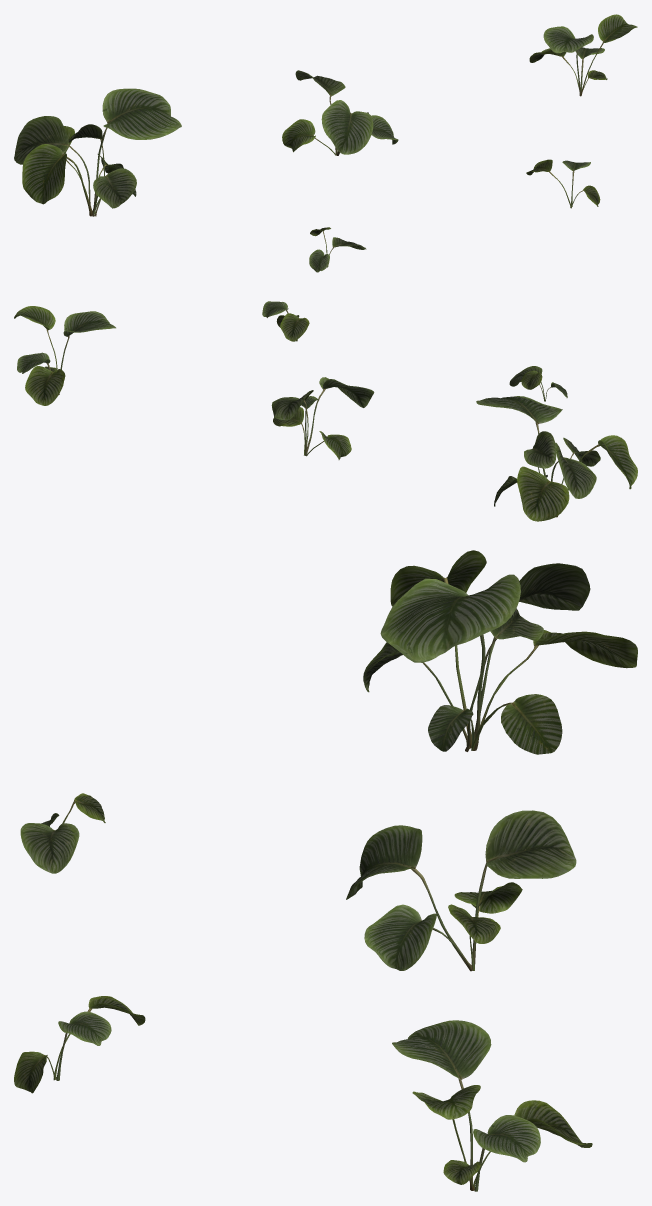
Rendered from calathea_orbifolia_01.glb.
The picture shows the model from 3 angles, top to bottom: view 1: azimuth 30°, elevation 25°; view 2: azimuth 150°, elevation 25°; view 3: azimuth 270°, elevation 25°; orthographic projection. The views are drawn at different scales.
Visible parts, largest first — view 1: calathea_orbifolia_01_a, calathea_orbifolia_01_b, calathea_orbifolia_01_c, calathea_orbifolia_01_e, calathea_orbifolia_01_d; view 2: calathea_orbifolia_01_a, calathea_orbifolia_01_c, calathea_orbifolia_01_b, calathea_orbifolia_01_e, calathea_orbifolia_01_d; view 3: calathea_orbifolia_01_a, calathea_orbifolia_01_b, calathea_orbifolia_01_c, calathea_orbifolia_01_e, calathea_orbifolia_01_d.
Boxes of the visible parts, box(x1,y1,x2,y2) form: calathea_orbifolia_01_a: box(14, 88, 181, 216); calathea_orbifolia_01_b: box(282, 70, 398, 155); calathea_orbifolia_01_c: box(529, 14, 637, 96); calathea_orbifolia_01_e: box(526, 159, 600, 208); calathea_orbifolia_01_d: box(309, 227, 366, 272); calathea_orbifolia_01_a: box(476, 396, 637, 521); calathea_orbifolia_01_c: box(14, 306, 115, 405); calathea_orbifolia_01_b: box(271, 377, 374, 459); calathea_orbifolia_01_e: box(262, 301, 309, 341); calathea_orbifolia_01_d: box(509, 366, 567, 401); calathea_orbifolia_01_a: box(363, 550, 637, 754); calathea_orbifolia_01_b: box(346, 810, 576, 971); calathea_orbifolia_01_c: box(392, 1020, 592, 1191); calathea_orbifolia_01_e: box(14, 996, 145, 1093); calathea_orbifolia_01_d: box(20, 793, 105, 873).
Bounding box in the file's own units: 2.49 × 0.4243 × 1.19.
Materials: 1 (1 with a texture image).
